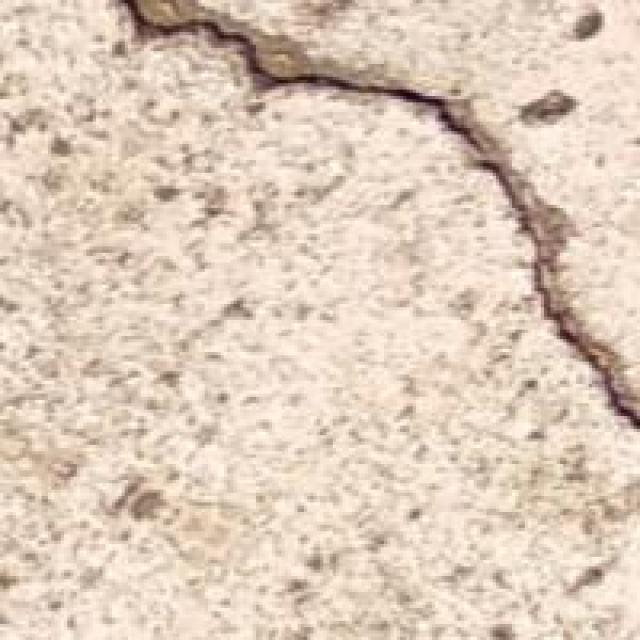crack: (115, 0, 637, 464)
